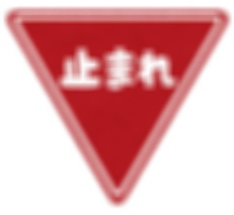Regulatory_sign_triangle: (3, 7, 229, 199)
